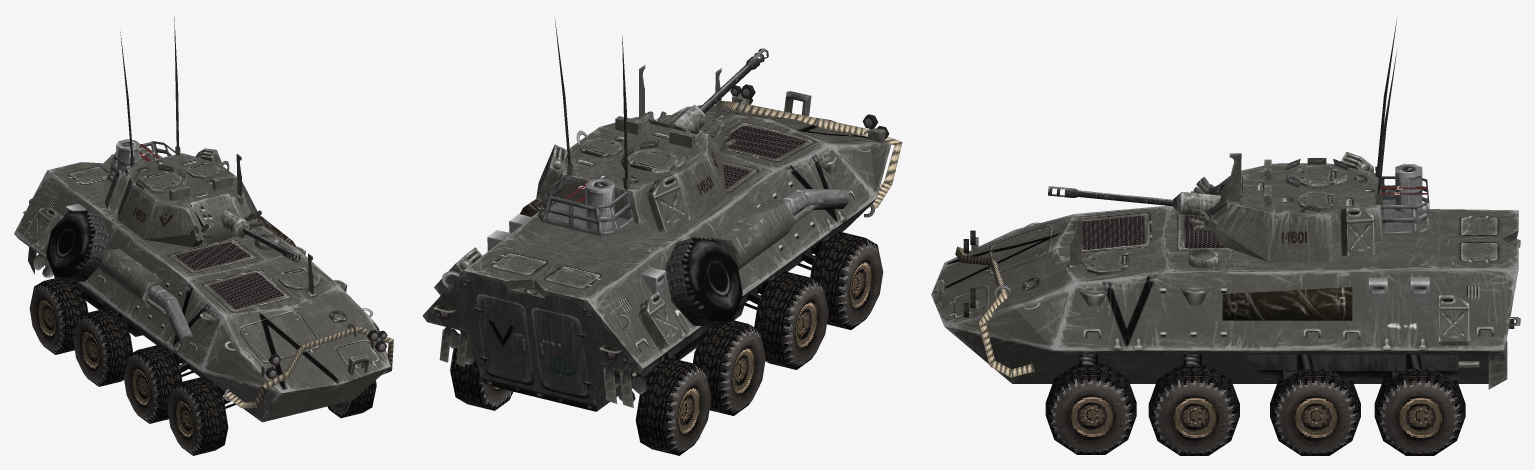
File: lav25.FBX
3 views of the same model, side by side, from view 1: azimuth 30°, elevation 25°; view 2: azimuth 150°, elevation 25°; view 3: azimuth 270°, elevation 25° (orthographic). The views are drawn at different scales.
Visible parts, largest first — view 1: LAV25, tower, Cylinder04, Cylinder008, Cylinder007, Cylinder03, Cylinder01; view 2: LAV25, tower, Cylinder03, Cylinder007, Cylinder04, Cylinder008, Cylinder02; view 3: LAV25, tower, Cylinder01, Cylinder006, Cylinder02, Cylinder005.
Boxes of the visible parts, bbox=[...] form: LAV25: bbox=[14, 146, 393, 422]; tower: bbox=[105, 17, 300, 262]; Cylinder04: bbox=[167, 376, 228, 455]; Cylinder008: bbox=[73, 308, 132, 386]; Cylinder007: bbox=[123, 344, 182, 423]; Cylinder03: bbox=[29, 278, 88, 354]; Cylinder01: bbox=[327, 380, 376, 418]; LAV25: bbox=[422, 68, 902, 411]; tower: bbox=[536, 17, 768, 236]; Cylinder03: bbox=[635, 357, 711, 455]; Cylinder007: bbox=[754, 271, 828, 369]; Cylinder04: bbox=[810, 231, 883, 329]; Cylinder008: bbox=[693, 320, 765, 415]; Cylinder02: bbox=[450, 347, 513, 410]; LAV25: bbox=[931, 189, 1520, 389]; tower: bbox=[1048, 17, 1429, 261]; Cylinder01: bbox=[1045, 363, 1136, 454]; Cylinder006: bbox=[1148, 364, 1239, 455]; Cylinder02: bbox=[1374, 369, 1465, 455]; Cylinder005: bbox=[1270, 369, 1360, 455].
Bounding box in the file's own units: 45.89 × 69.33 × 97.98.
